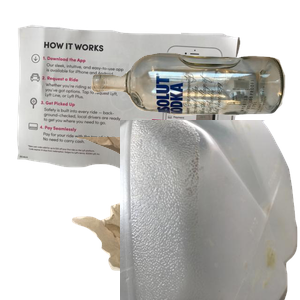glass: (88, 50, 300, 158)
paper: (14, 22, 247, 191)
plastic: (120, 120, 300, 300)
trash: (66, 137, 263, 300)
